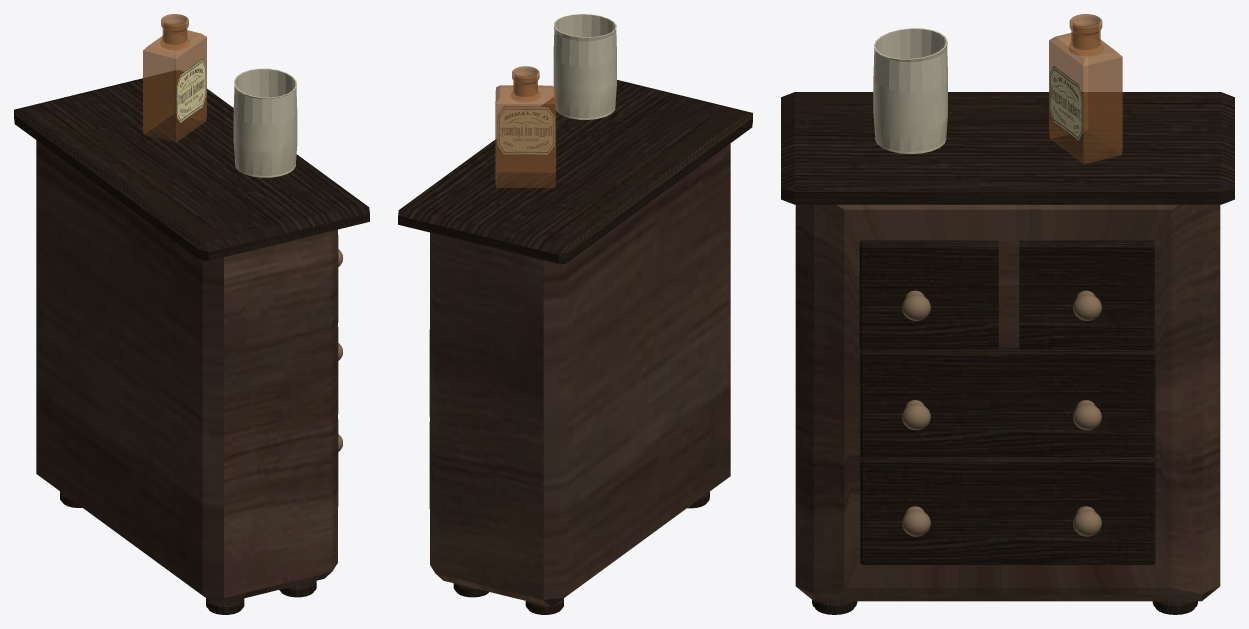
The model's file is bedside_meds.glb.
3 renders of one model, left to right at view 1: azimuth 30°, elevation 25°; view 2: azimuth 150°, elevation 25°; view 3: azimuth 270°, elevation 25°, orthographic. The views are drawn at different scales.
Visible parts, largest first — view 1: bedside_shelf3, medicine1, pCylinder40; view 2: bedside_shelf3, medicine1, pCylinder40; view 3: bedside_shelf3, medicine1, pCylinder40.
Boxes of the visible parts, bbox=[...] form: bedside_shelf3: bbox=[14, 71, 369, 614]; medicine1: bbox=[143, 14, 206, 142]; pCylinder40: bbox=[233, 68, 297, 177]; bedside_shelf3: bbox=[398, 80, 752, 614]; medicine1: bbox=[495, 66, 556, 188]; pCylinder40: bbox=[553, 14, 616, 119]; bedside_shelf3: bbox=[781, 92, 1234, 614]; medicine1: bbox=[1049, 14, 1122, 163]; pCylinder40: bbox=[873, 28, 947, 154].
Bounding box in the file's own units: 0.354 × 0.8545 × 0.6082.
5 materials, 4 textured.
